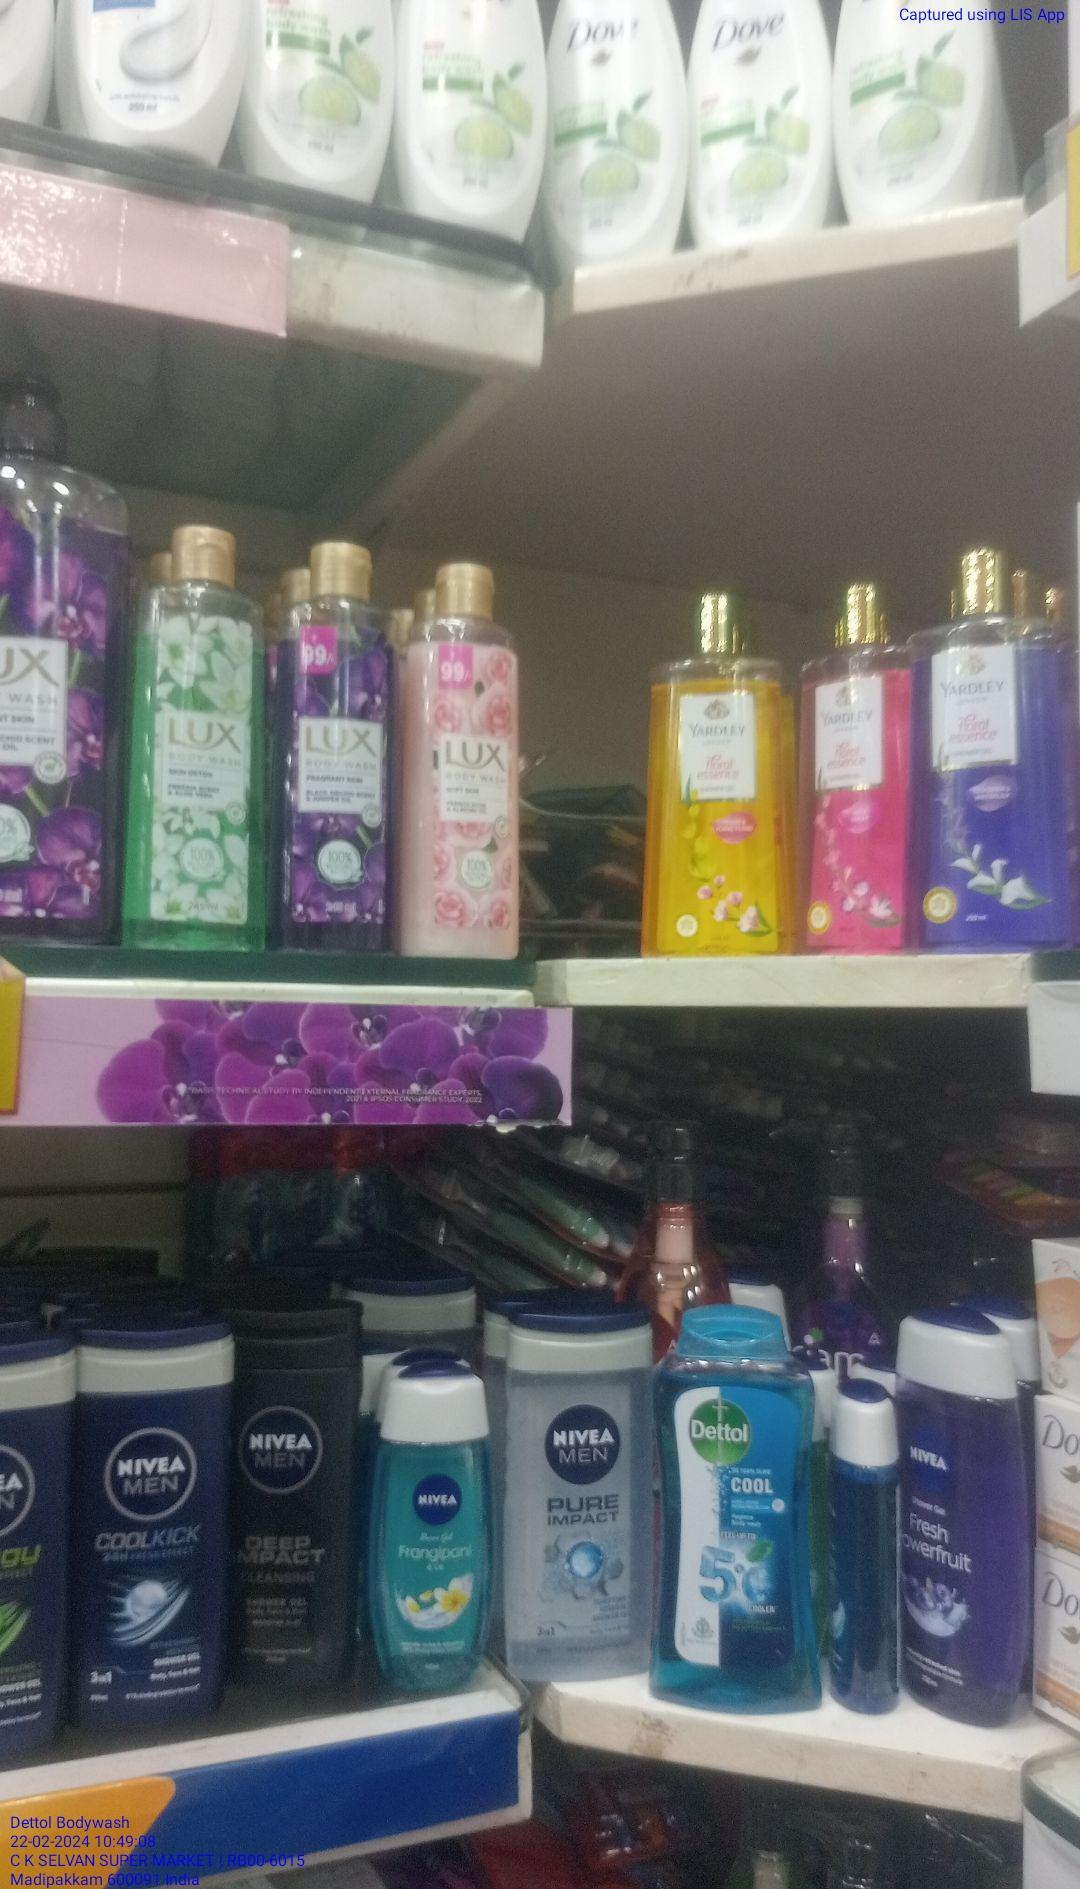Dettol_Bodywash_Cool: (648, 1318, 822, 1706)
Lux_Black_Orchid_Scent_and_Juniper_Oil_Body_Wash_245ML: (280, 544, 395, 954)
Lux_Body_Wash_Skin_Detox_Freesia_Scent_and_Alove_Vera_245ML: (125, 525, 270, 950)
Nivea_Shower_Gel_Frangipani_and_Oil_250ML: (366, 1375, 495, 1688)
